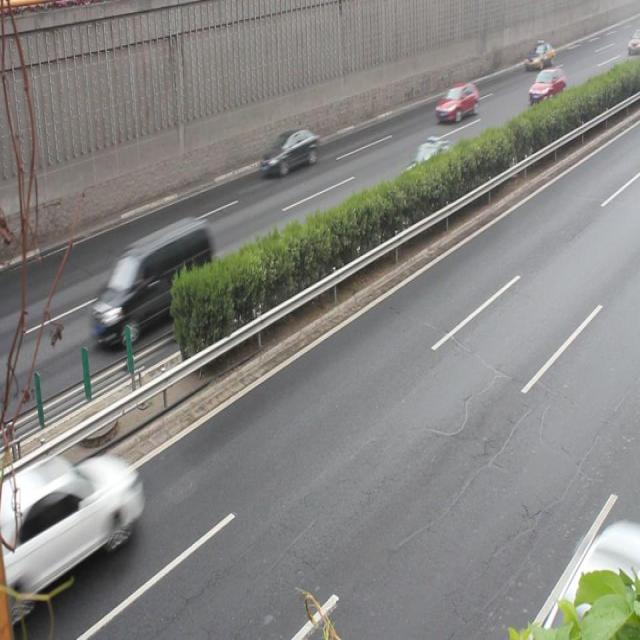car: (10, 454, 139, 577), (396, 139, 456, 194), (259, 125, 315, 177), (432, 81, 476, 122), (527, 65, 563, 103)
